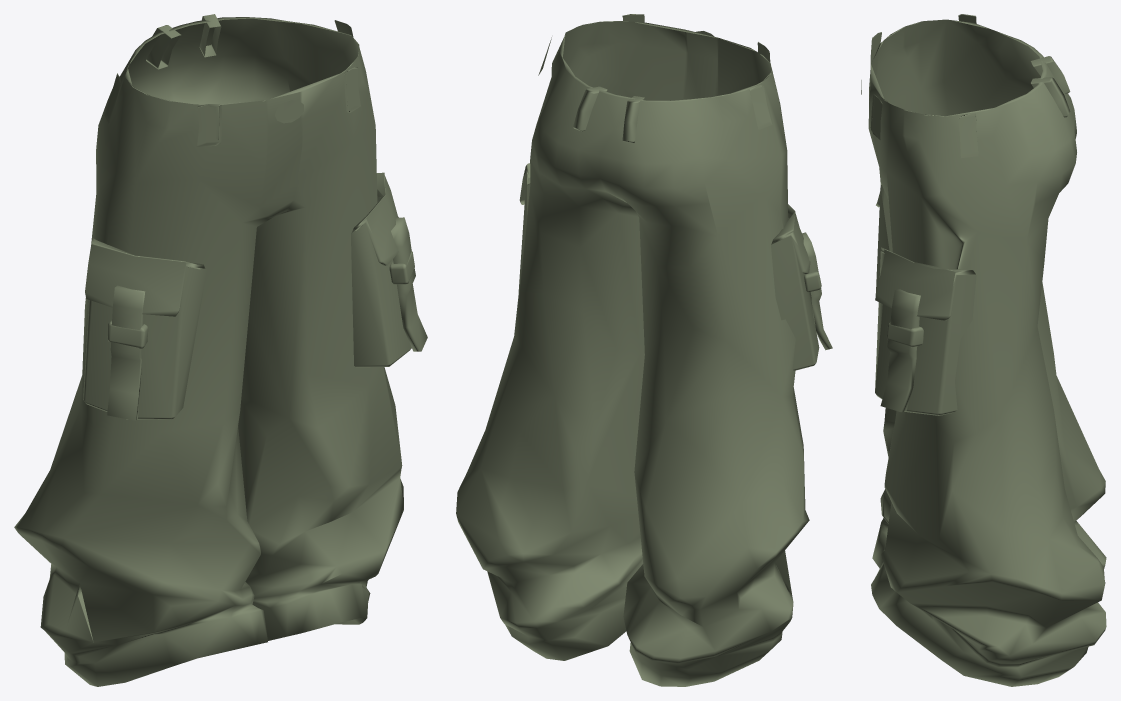
The model's file is cargo-only.glb.
3 views of the same model, side by side, from view 1: azimuth 30°, elevation 25°; view 2: azimuth 150°, elevation 25°; view 3: azimuth 270°, elevation 25° (orthographic). The views are drawn at different scales.
Visible parts, largest first — view 1: Lowerwear_cargo; view 2: Lowerwear_cargo; view 3: Lowerwear_cargo.
Boxes of the visible parts, x1,y1,x2,y2 form: Lowerwear_cargo: (14, 14, 427, 686); Lowerwear_cargo: (456, 14, 832, 686); Lowerwear_cargo: (861, 14, 1106, 686).
Size of the model in its own units: 1.3 by 2.2 by 0.8499.
